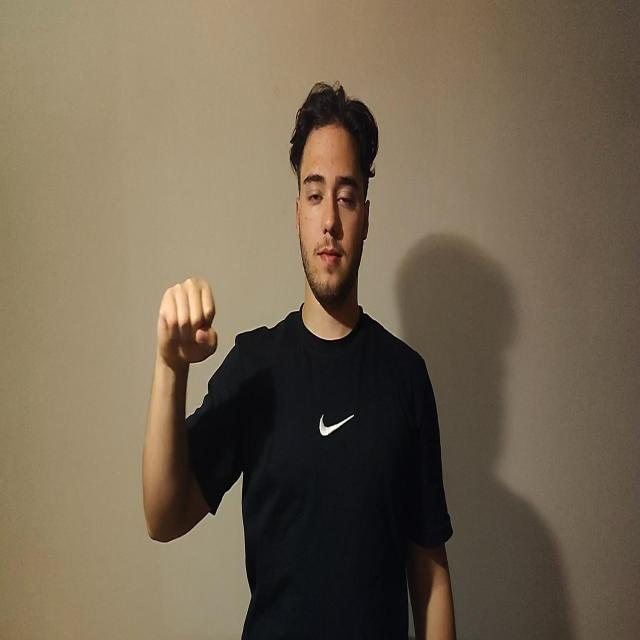yes: (156, 276, 218, 371)
